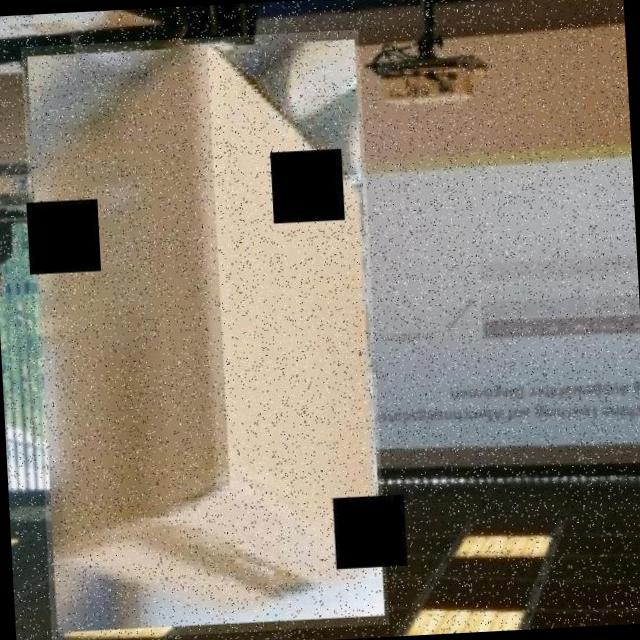box: (20, 29, 389, 640)
